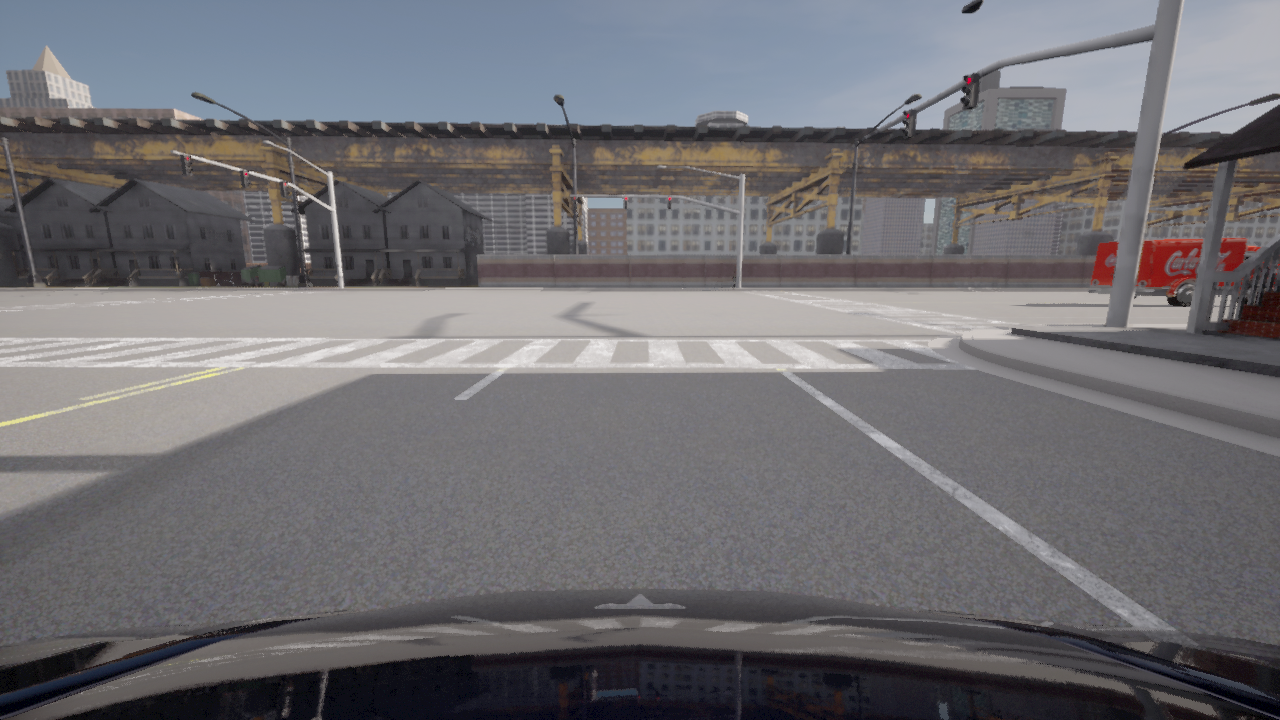cyclist: (0, 588, 1279, 719), (1087, 237, 1279, 307)
pedestrian: (730, 264, 738, 291)
